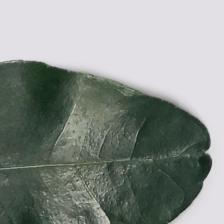healthy: (0, 81, 200, 224)
